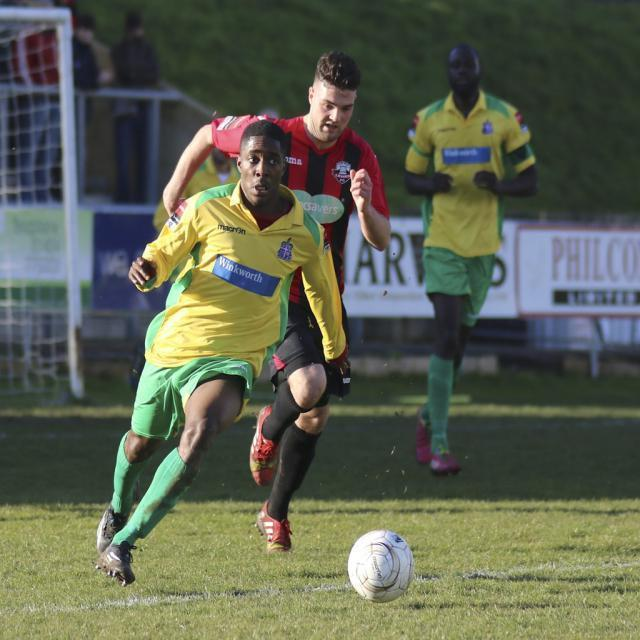ball: (344, 529, 414, 602)
